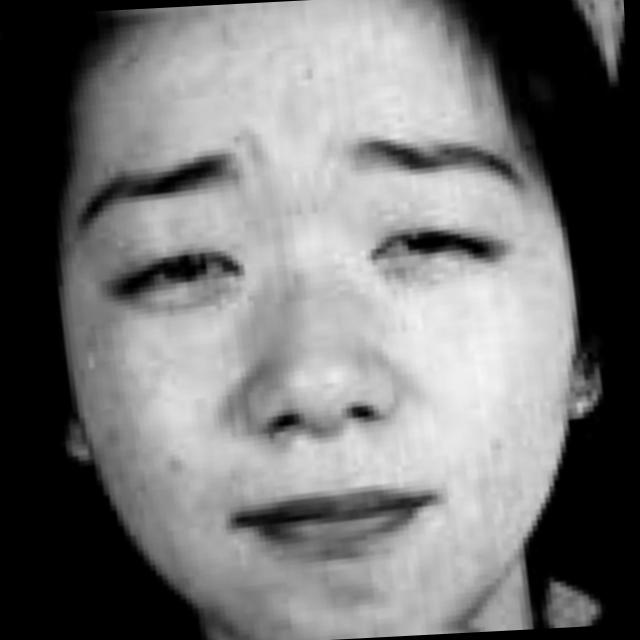sad: (75, 58, 588, 635)
